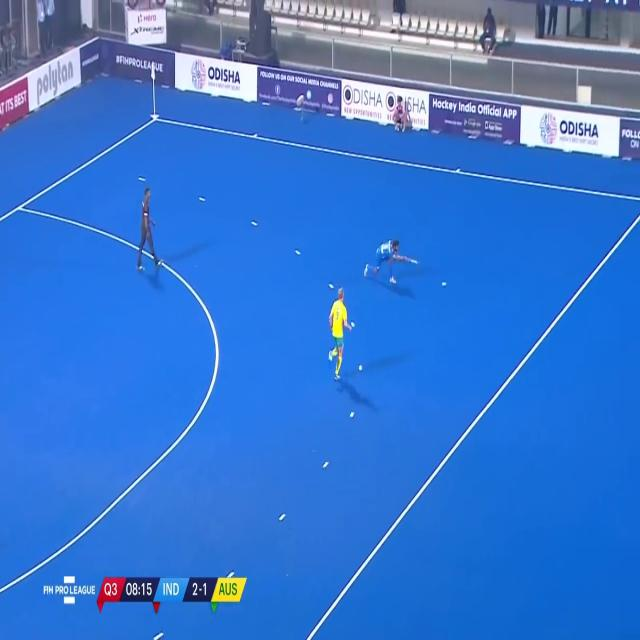ball: (439, 278, 449, 290)
